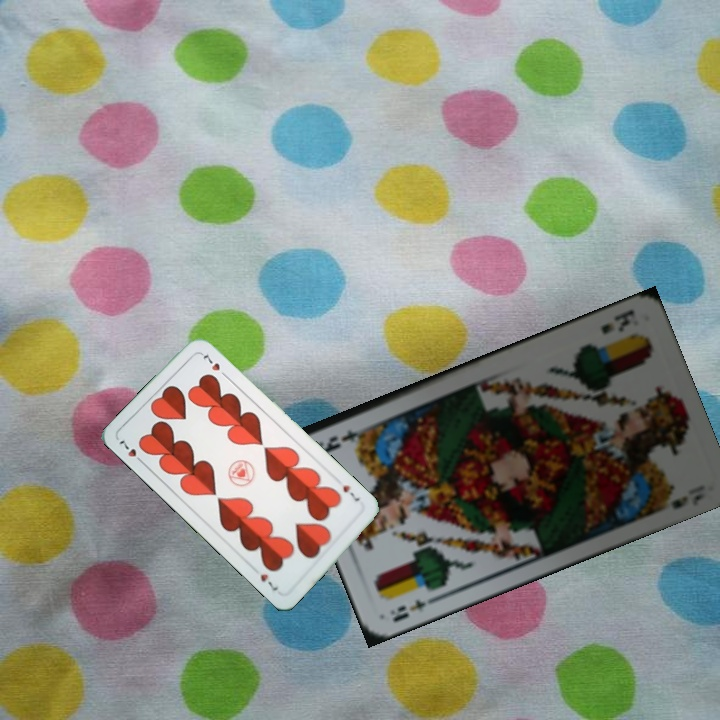EK: (386, 592, 440, 625), (597, 305, 638, 337)
H7: (115, 436, 147, 467), (338, 480, 362, 504)
